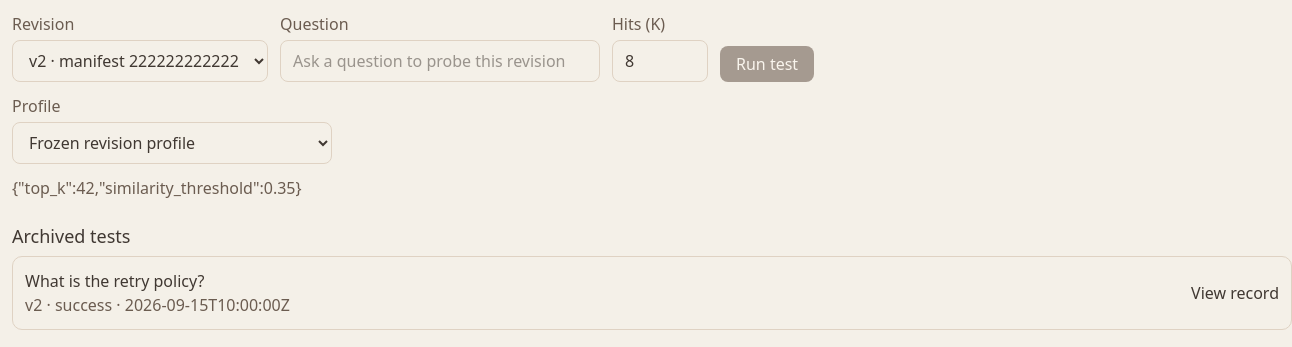
Test: RetrievalTestPanel › does not show frozen profile details for the configured profile
Select "Current configured profile" in the dropdown labelled "Profile". click: (172, 143)
box: [12,122,332,164]
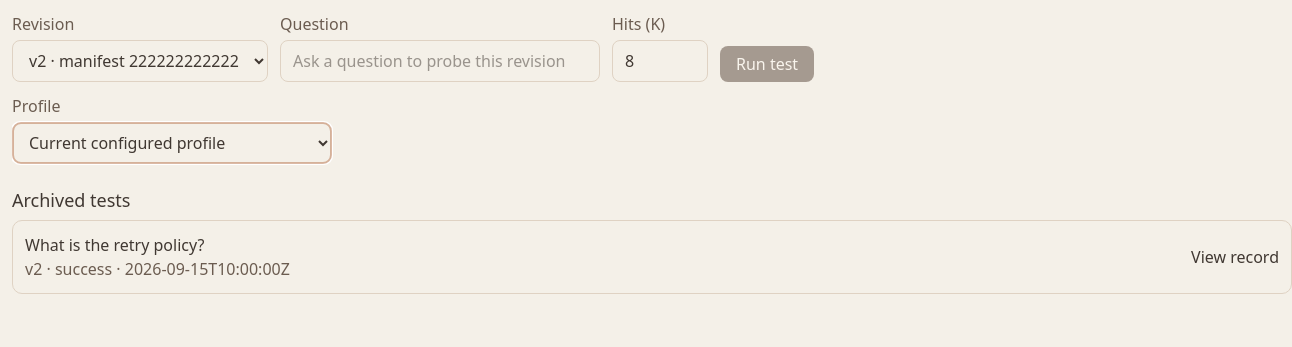
Result: the text "\"top_k\":42" is gone
